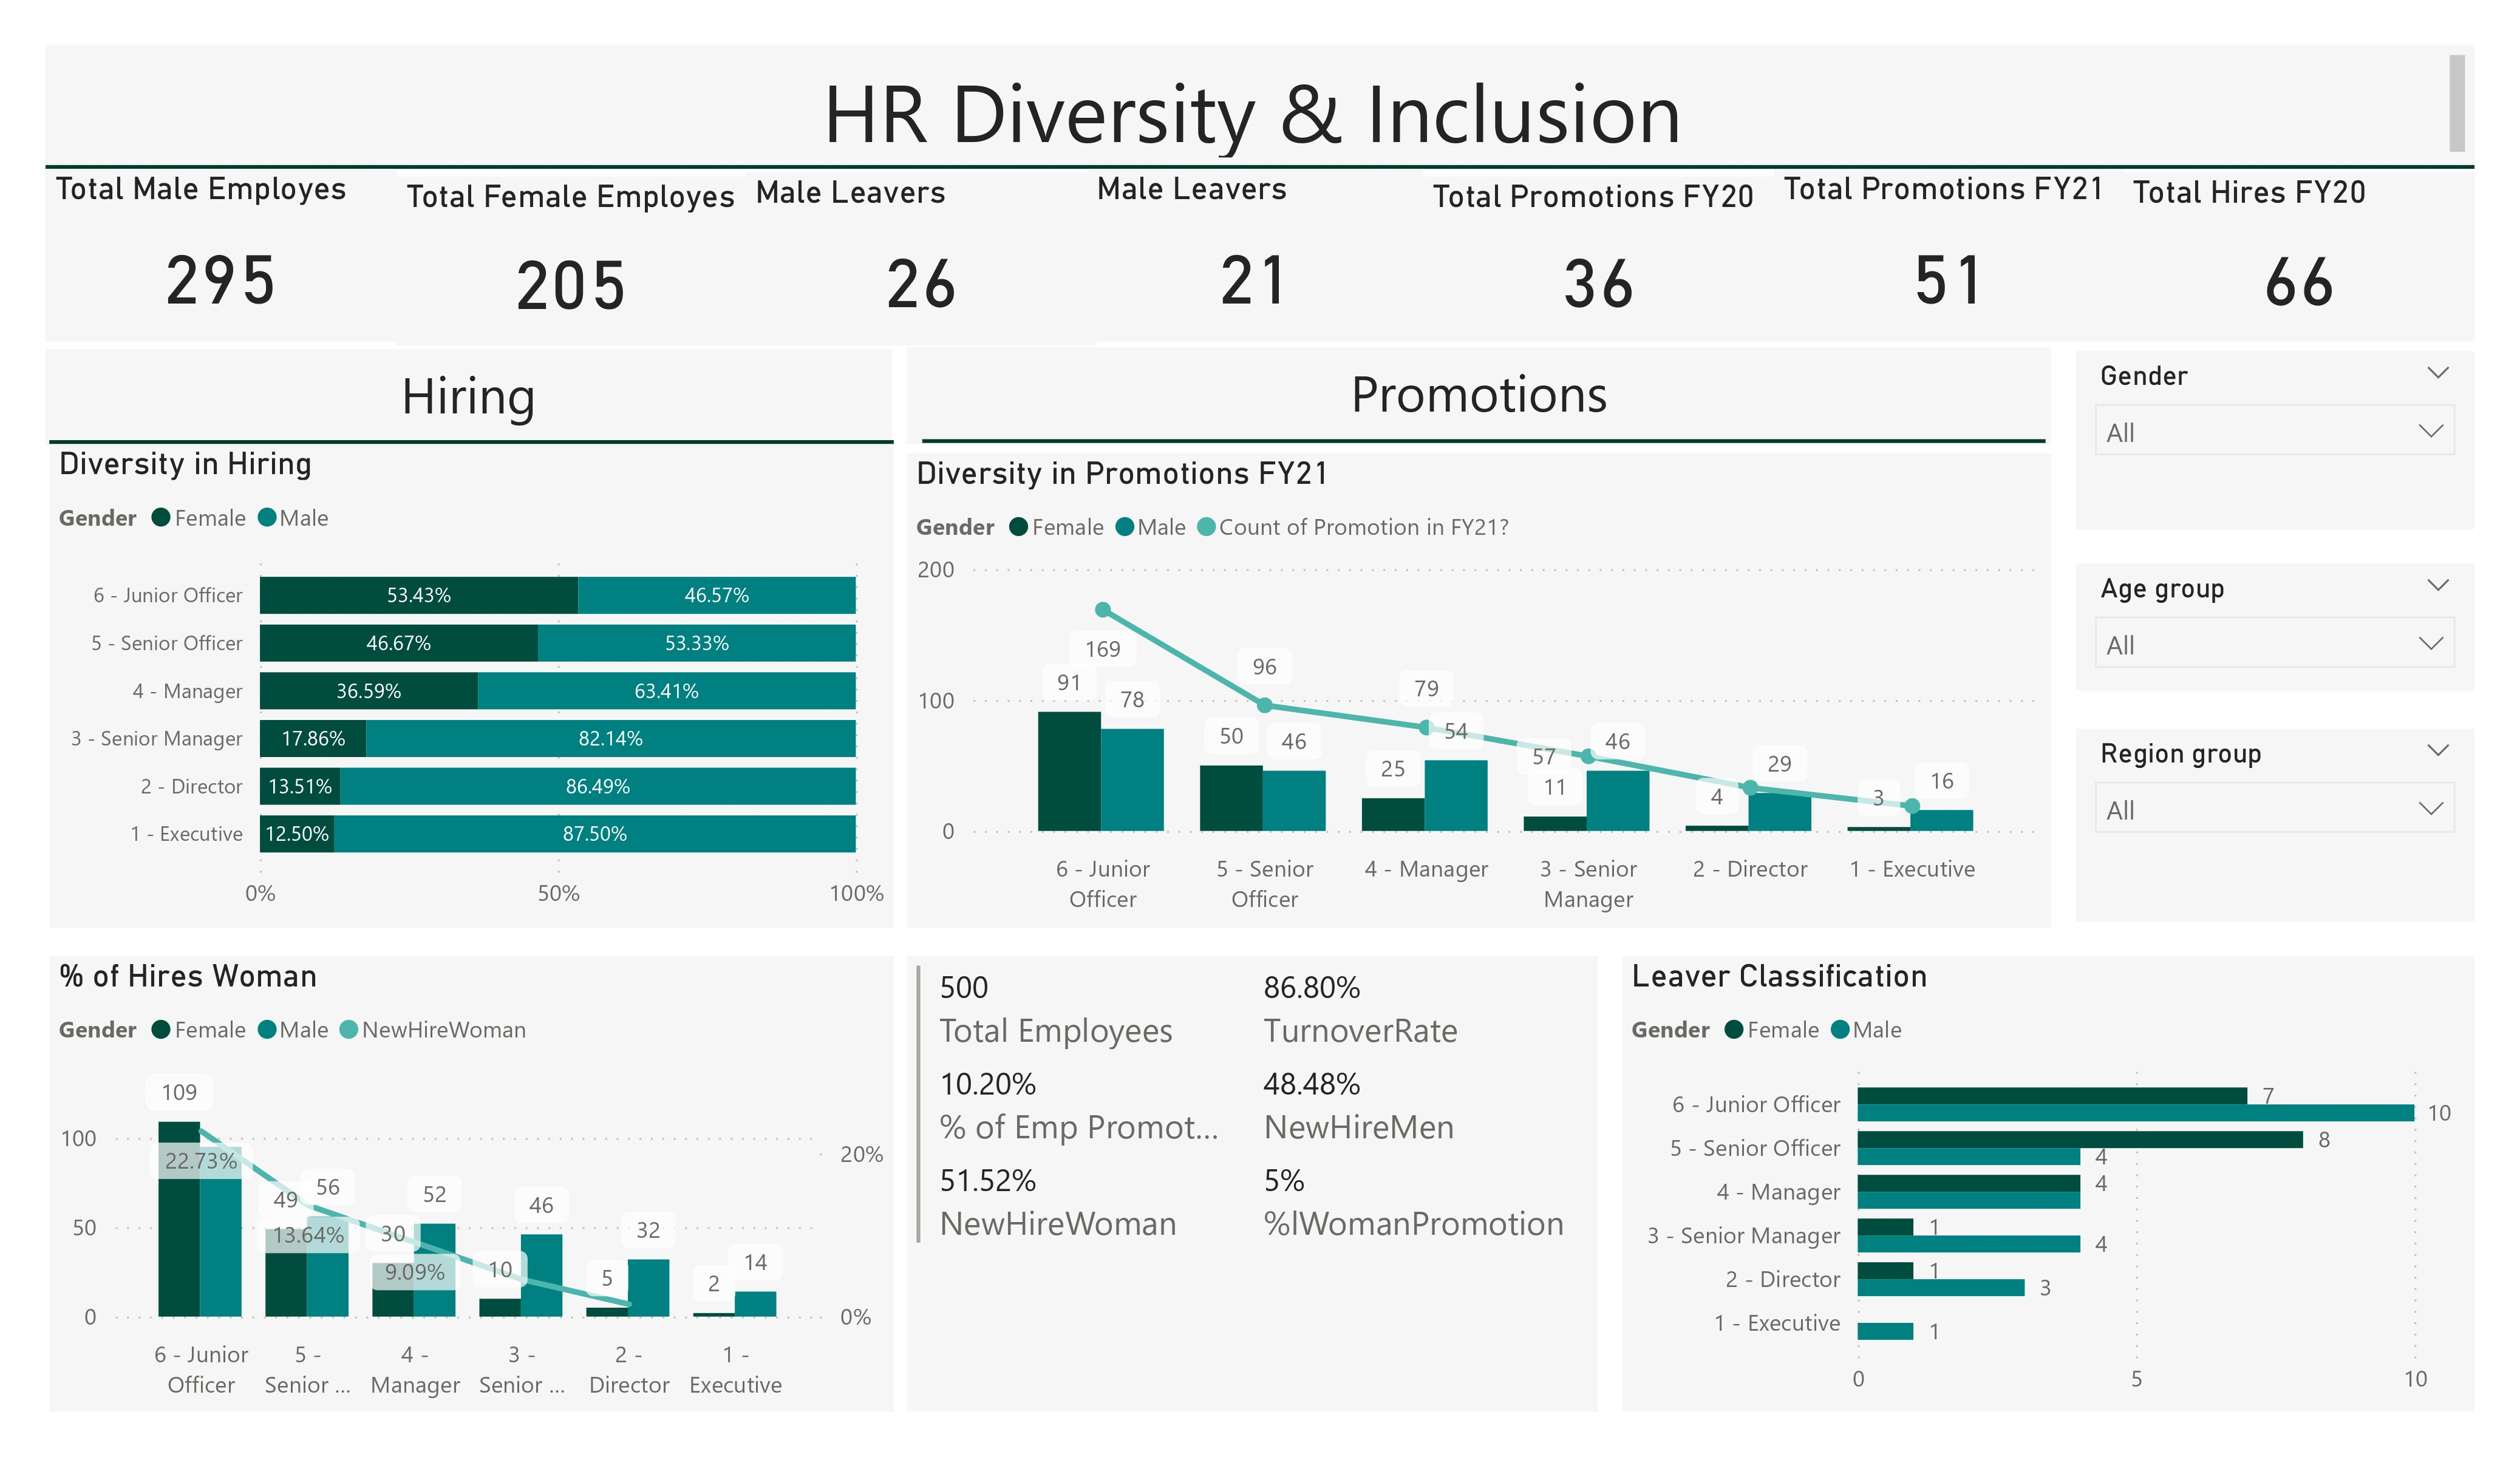

The page's visual inventory and layout, read from the dashboard file:
{"tool":"powerbi","page":{"name":"Page 1","canvas":[1280,720],"ordinal":0},"visuals":[{"type":"slicer","fields":{"Values":["Pharma Group AG.Gender"]},"box":[1070,161.1,210,94.1],"z":0},{"type":"slicer","fields":{"Values":["Pharma Group AG.Age group"]},"box":[1070,273.4,210,67],"z":1000},{"type":"card","title":"Total Hires FY20","fields":{"Values":["CountNonNull(Pharma Group AG.New hire FY20?)"]},"box":[1095.3,67,184.7,88.7],"z":2000},{"type":"card","title":"Total Promotions FY20","fields":{"Values":["CountNonNull(Pharma Group AG.Promotion in FY20?)"]},"box":[726,68.8,184.7,86.9],"z":3000},{"type":"textbox","box":[0,0,1280,64],"z":4000},{"type":"card","title":"Total Promotions FY21","fields":{"Values":["CountNonNull(Pharma Group AG.Promotion in FY21?)"]},"box":[910.7,65.2,184.7,90.5],"z":5000},{"type":"shape","box":[0,57.3,1280,13.5],"z":6000},{"type":"hundredPercentStackedBarChart","title":"Diversity in Hiring","fields":{"Y":["CountNonNull(Pharma Group AG.New hire FY20?)"],"Category":["Pharma Group AG.Job Level after FY20 promotions"],"Series":["Pharma Group AG.Gender"]},"box":[1.8,210,445.4,255.3],"z":7000},{"type":"textbox","box":[0,160,446.3,50.5],"z":8000},{"type":"textbox","box":[454.4,159.3,602.9,50.7],"z":9000},{"type":"lineClusteredColumnComboChart","title":"Diversity in Promotions FY21","fields":{"Y":["CountNonNull(Pharma Group AG.Promotion in FY21?)"],"Category":["Pharma Group AG.Job Level after FY21 promotions"],"Series":["Pharma Group AG.Gender"],"Y2":["CountNonNull(Pharma Group AG.Promotion in FY21?)"]},"box":[454.4,215.4,602.9,249.8],"z":10000},{"type":"clusteredBarChart","title":" Leaver Classification","fields":{"Category":["Pharma Group AG.Job Level before FY20 promotions"],"Series":["Pharma Group AG.Gender"],"Y":["CountNonNull(Pharma Group AG.Leaver FY)"]},"box":[831,479.8,449,240.8],"z":11000},{"type":"lineClusteredColumnComboChart","title":"% of  Hires Woman","fields":{"Category":["Pharma Group AG.Job Level after FY20 promotions"],"Series":["Pharma Group AG.Gender"],"Y2":["Pharma Group AG.NewHireWoman"],"Y":["CountNonNull(Pharma Group AG.New hire FY20?)"]},"box":[1.8,479.8,445.4,240.8],"z":12000},{"type":"card","title":"Total Male Employes","fields":{"Values":["CountNonNull(Pharma Group AG.Employee ID)"]},"box":[0,65.2,185,90.5],"z":13000},{"type":"card","title":"Total Female Employes","fields":{"Values":["CountNonNull(Pharma Group AG.Employee ID)"]},"box":[184.7,68.8,184.7,88.7],"z":14000},{"type":"card","title":"Male Leavers","fields":{"Values":["CountNonNull(Pharma Group AG.Leaver FY)"]},"box":[369.3,67,184.7,90.5],"z":15000},{"type":"card","title":"Male Leavers","fields":{"Values":["CountNonNull(Pharma Group AG.Leaver FY)"]},"box":[548.6,65.2,177.4,90.5],"z":16000},{"type":"slicer","fields":{"Values":["Pharma Group AG.Region group: nationality 1"]},"box":[1070,360.3,210,101.4],"z":17000},{"type":"multiRowCard","fields":{"Values":["CountNonNull(Pharma Group AG.Employee ID)","Pharma Group AG.TurnoverRate","Pharma Group AG.EmpPromotion21","Pharma Group AG.NewHireMen","Pharma Group AG.NewHireWoman","Pharma Group AG.TotalWomanPromotion"]},"box":[454.4,479.8,363.9,240.8],"z":18000},{"type":"shape","box":[1.8,202.8,445.4,12.7],"z":19000},{"type":"shape","box":[461.7,202.8,592,10.9],"z":20000}]}

Visuals, with their boxes in screenshot pixels (x1, y1, x2, y2):
slicer - Pharma Group AG.Gender: select_region(2076, 351, 2474, 529)
slicer - Pharma Group AG.Age group: select_region(2076, 564, 2474, 691)
"Total Hires FY20" card: select_region(2124, 172, 2474, 341)
"Total Promotions FY20" card: select_region(1423, 176, 1774, 341)
textbox: select_region(46, 46, 2474, 167)
"Total Promotions FY21" card: select_region(1774, 169, 2124, 341)
shape: select_region(46, 154, 2474, 180)
"Diversity in Hiring" hundredPercentStackedBarChart: select_region(49, 444, 894, 928)
textbox: select_region(46, 349, 893, 445)
textbox: select_region(908, 348, 2052, 444)
"Diversity in Promotions FY21" lineClusteredColumnComboChart: select_region(908, 454, 2052, 928)
" Leaver Classification" clusteredBarChart: select_region(1623, 956, 2474, 1411)
"% of  Hires Woman" lineClusteredColumnComboChart: select_region(49, 956, 894, 1411)
"Total Male Employes" card: select_region(46, 169, 397, 341)
"Total Female Employes" card: select_region(396, 176, 746, 344)
"Male Leavers" card: select_region(746, 172, 1097, 344)
"Male Leavers" card: select_region(1086, 169, 1423, 341)
slicer - Pharma Group AG.Region group: nationality 1: select_region(2076, 729, 2474, 922)
multiRowCard - CountNonNull(Pharma Group AG.Employee ID) x Pharma Group AG.TurnoverRate: select_region(908, 956, 1598, 1411)
shape: select_region(49, 430, 894, 454)
shape: select_region(922, 430, 2045, 451)
